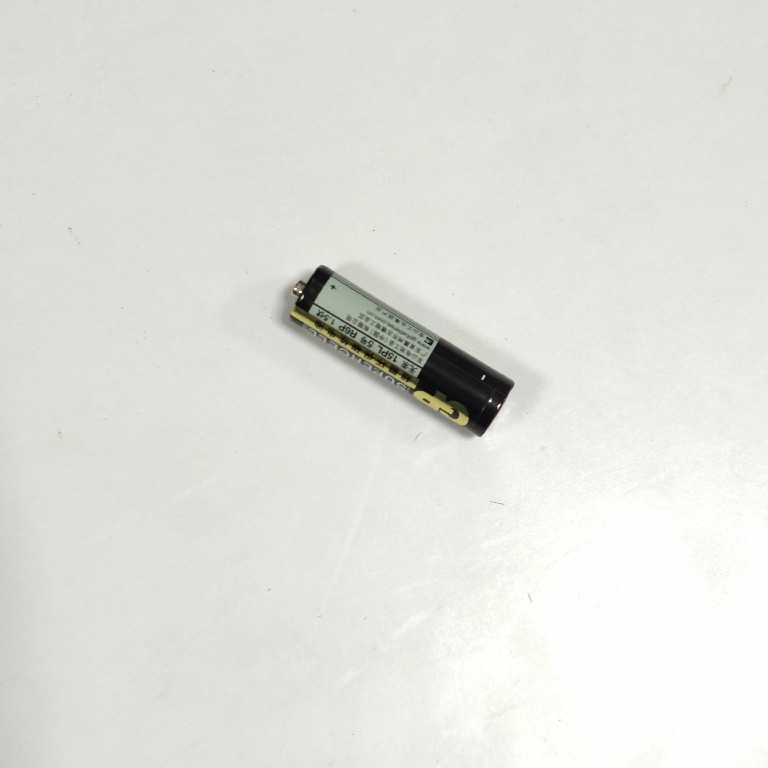charge: (282, 261, 520, 444)
